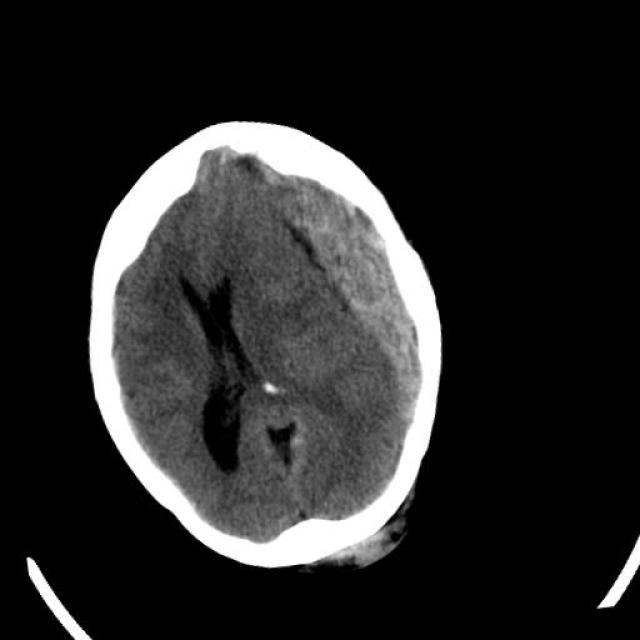Subdural: (260, 130, 510, 444)
